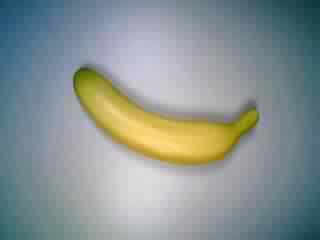banana: (67, 62, 267, 175)
